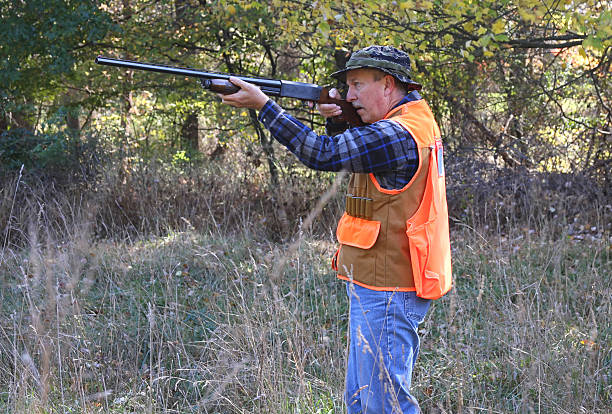gun: (94, 56, 364, 130)
